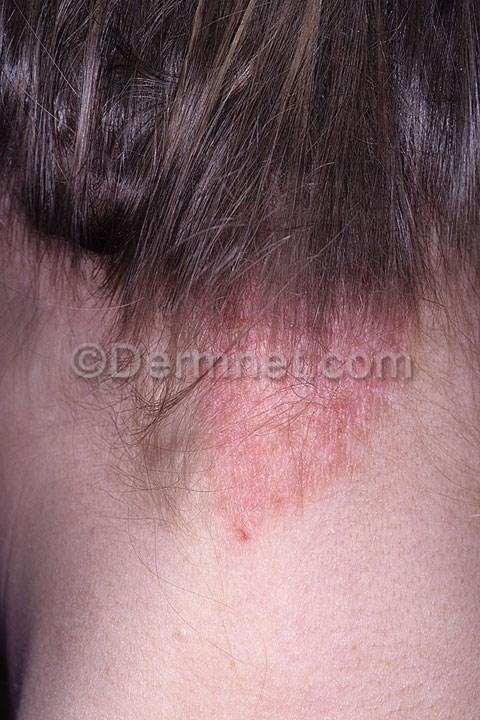Eczema: (203, 288, 417, 533), (209, 506, 275, 581)
